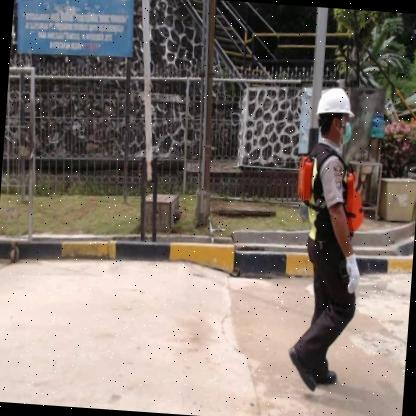bota: (280, 340, 326, 398), (315, 358, 344, 388)
capacete: (310, 80, 358, 124)
